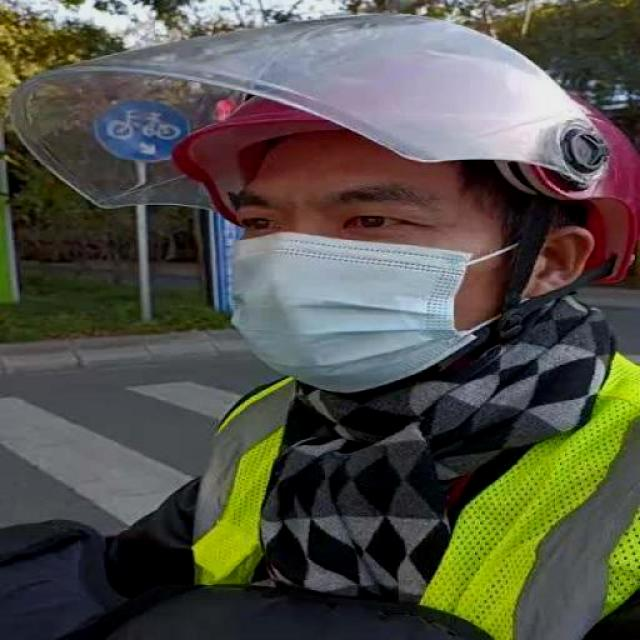face_mask: (226, 186, 493, 387)
head_nohelmet: (165, 66, 640, 240)
vest: (194, 366, 638, 639)
